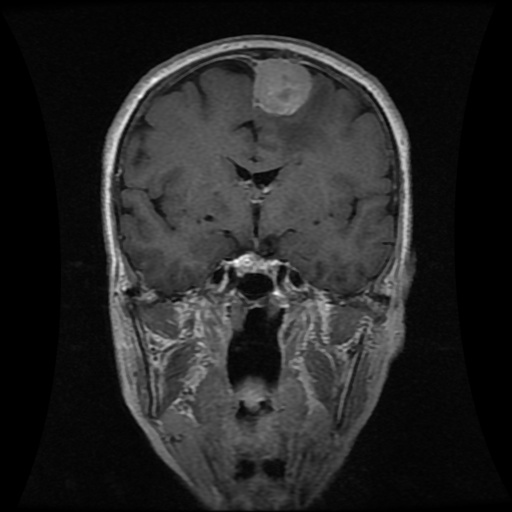meningioma: (254, 59, 312, 114)
